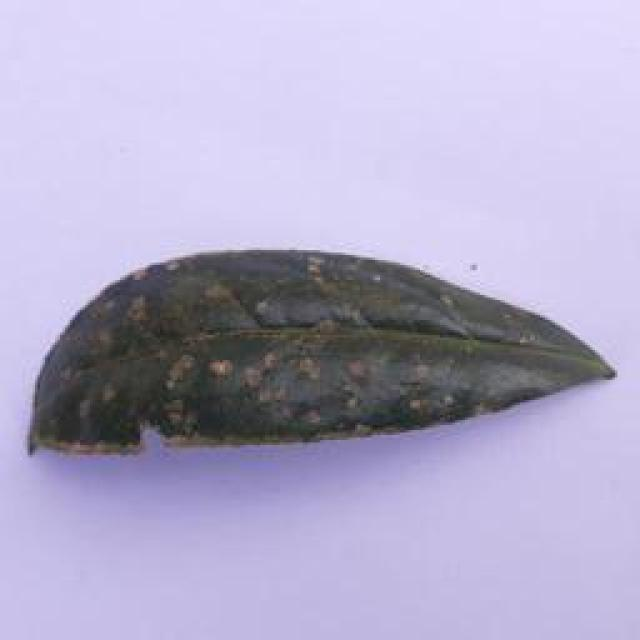Algal Leaf Spot: (24, 237, 616, 470)
